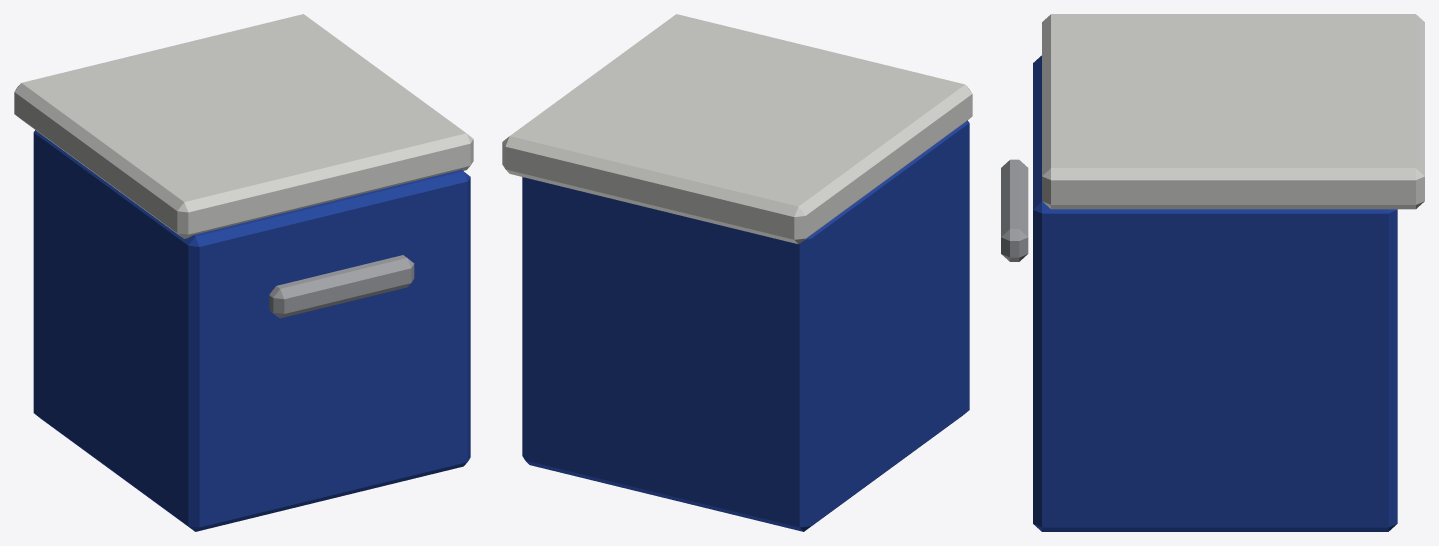
The model's file is PRP_Cooler_BCH_v001.glb.
3 renders of one model, left to right at view 1: azimuth 30°, elevation 25°; view 2: azimuth 150°, elevation 25°; view 3: azimuth 270°, elevation 25°, orthographic. The views are drawn at different scales.
Visible parts, largest first — view 1: PRP_Cooler_BCH_v001; view 2: PRP_Cooler_BCH_v001; view 3: PRP_Cooler_BCH_v001.
Boxes of the visible parts, left/top/right/bottom form: PRP_Cooler_BCH_v001: left=14, top=14, right=473, bottom=531; PRP_Cooler_BCH_v001: left=502, top=14, right=972, bottom=531; PRP_Cooler_BCH_v001: left=1001, top=14, right=1424, bottom=531.
Size of the model in its own units: 0.42 by 0.445 by 0.465.
